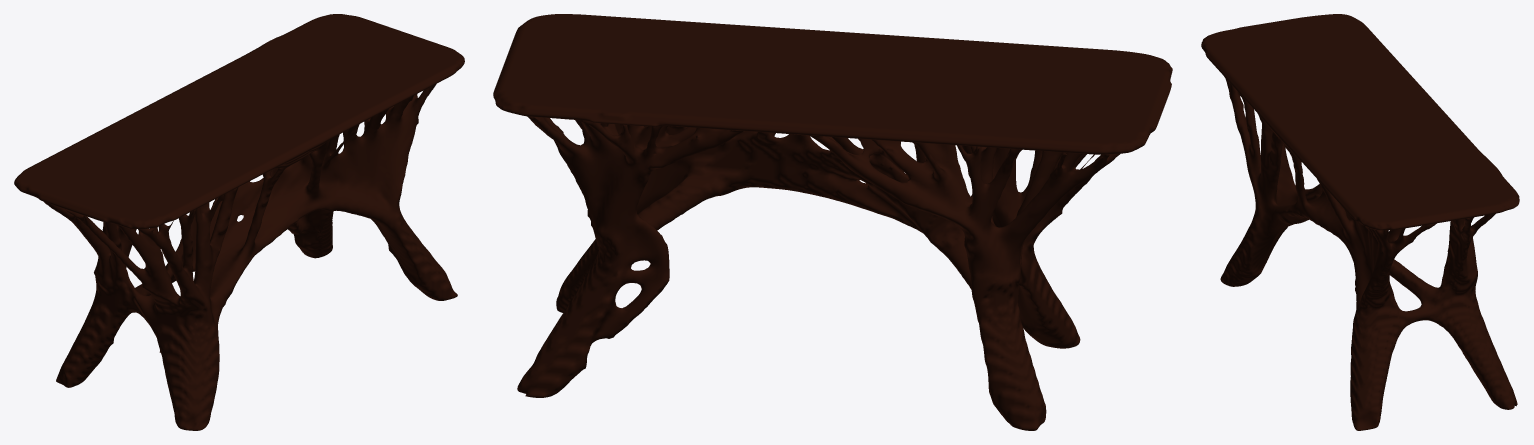
Rendered from naturalbridge.fbx.
3 renders of one model, left to right at view 1: azimuth 30°, elevation 25°; view 2: azimuth 150°, elevation 25°; view 3: azimuth 270°, elevation 25°, orthographic. The views are drawn at different scales.
Visible parts, largest first — view 1: Object_1; view 2: Object_1; view 3: Object_1.
Boxes of the visible parts, x1,y1,x2,y2 form: Object_1: [14, 14, 464, 430]; Object_1: [493, 14, 1172, 430]; Object_1: [1201, 14, 1519, 430].
Bounding box in the file's own units: 853 × 406 × 540.
